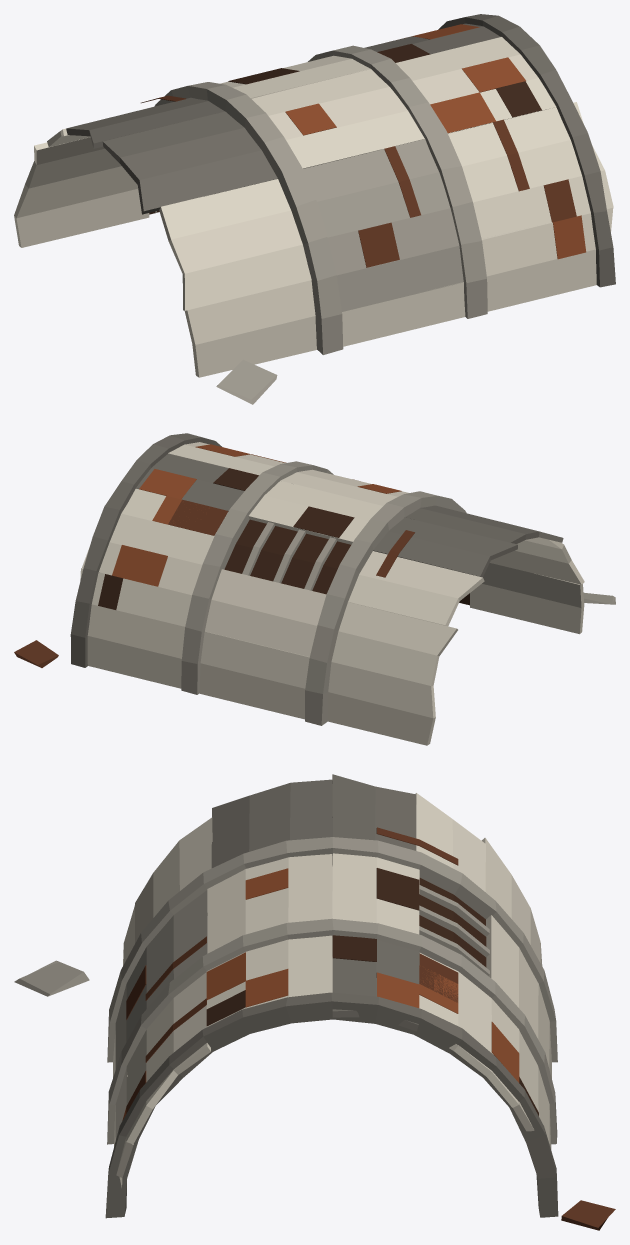
The model's file is hull_shell.glb.
The picture shows the model from 3 angles, top to bottom: view 1: azimuth 30°, elevation 25°; view 2: azimuth 150°, elevation 25°; view 3: azimuth 270°, elevation 25°; orthographic projection. The views are drawn at different scales.
Parts seen in each view (by area): view 1: hull_shell; view 2: hull_shell; view 3: hull_shell.
Boxes of the visible parts, x1,y1,x2,y2 form: hull_shell: (14,14,615,404); hull_shell: (14,433,615,745); hull_shell: (14,774,615,1230).
Bounding box in the file's own units: 52.57 × 19.73 × 49.4.
